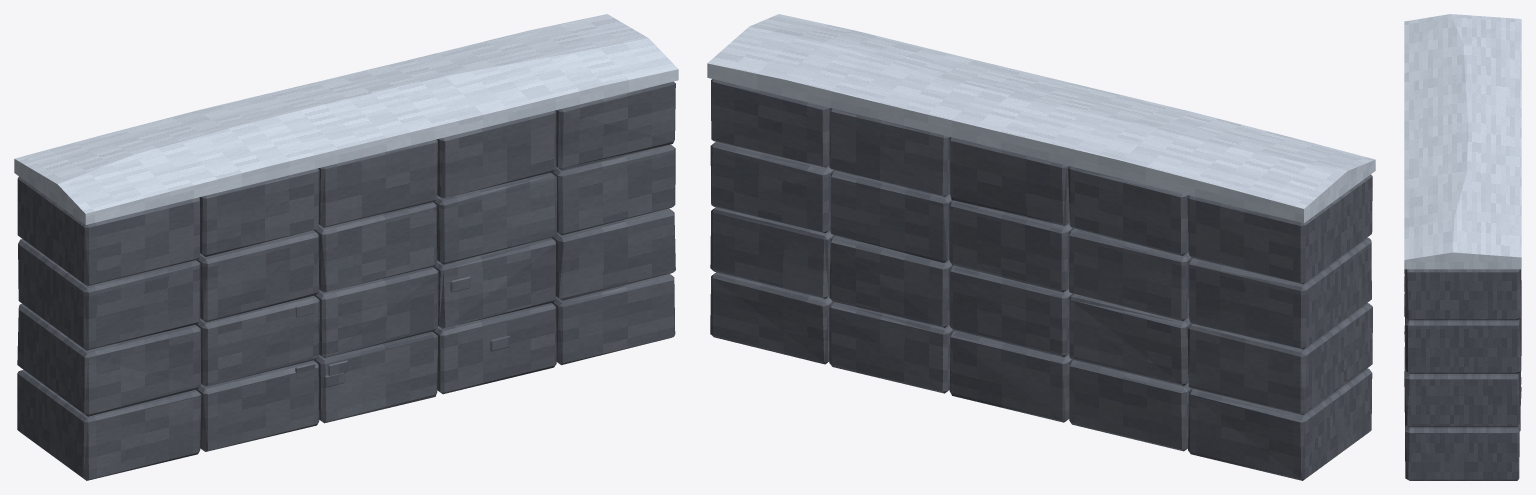
File: stone_wall_snow.glb
The picture shows the model from 3 angles, left to right: view 1: azimuth 30°, elevation 25°; view 2: azimuth 150°, elevation 25°; view 3: azimuth 270°, elevation 25°; orthographic projection. The views are drawn at different scales.
Visible parts, largest first — view 1: stone_wall_snow; view 2: stone_wall_snow; view 3: stone_wall_snow.
Part boxes in pixels (x1,y1,x2,y2): stone_wall_snow: [14, 14, 678, 480]; stone_wall_snow: [707, 14, 1375, 480]; stone_wall_snow: [1404, 14, 1521, 480].
Bounding box in the file's own units: 2.4 × 1.1 × 0.5.
Materials: 5 (5 with a texture image).
